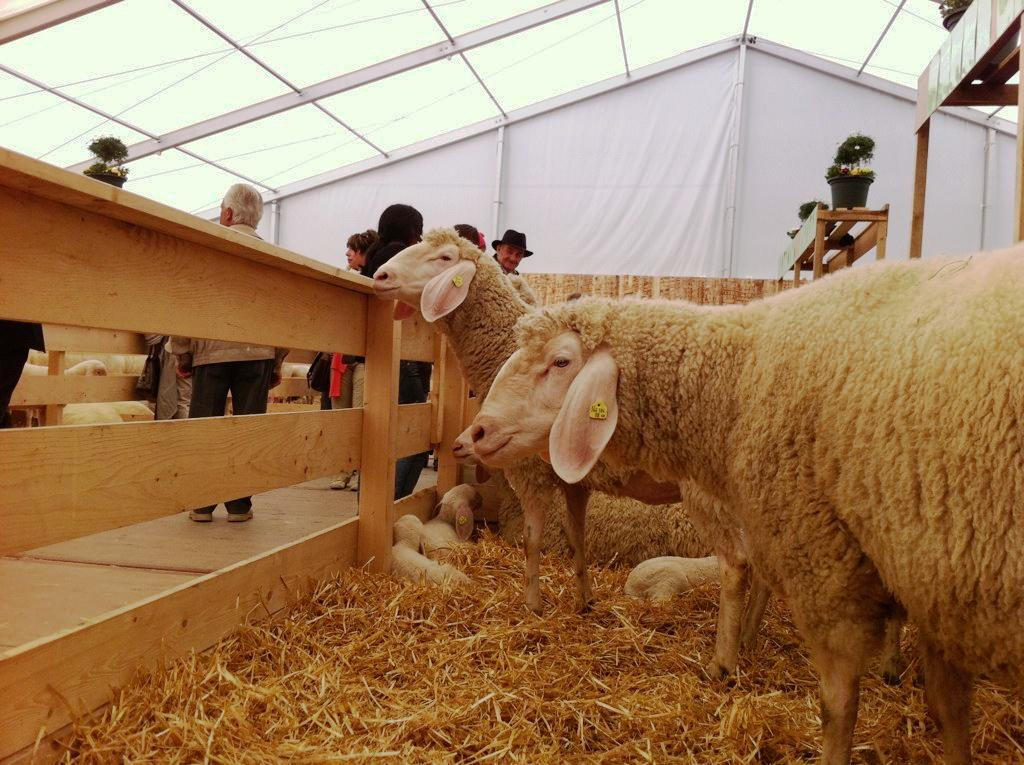Sheep: (377, 224, 903, 684)
